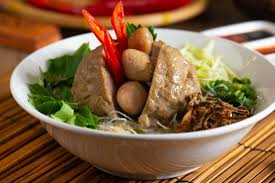bakso: (69, 24, 203, 133)
